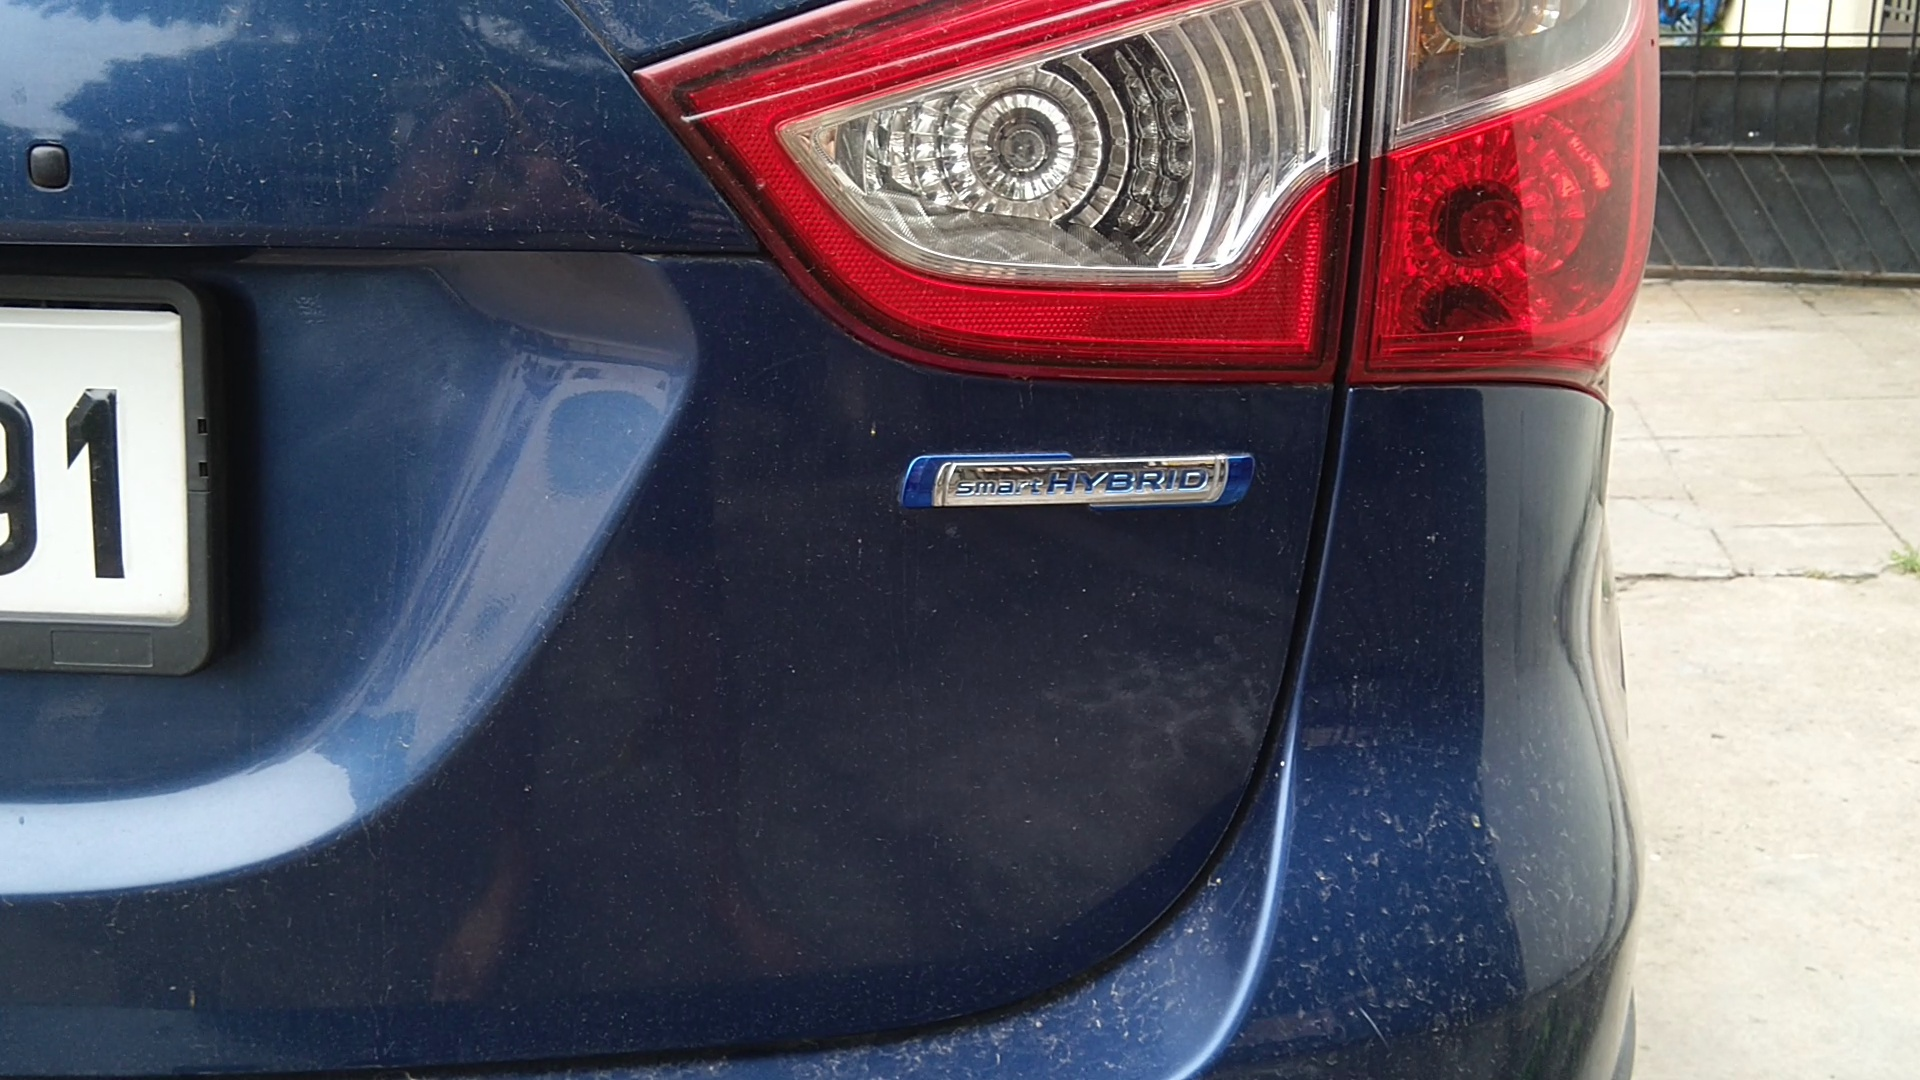shvs: (870, 419, 1288, 558)
